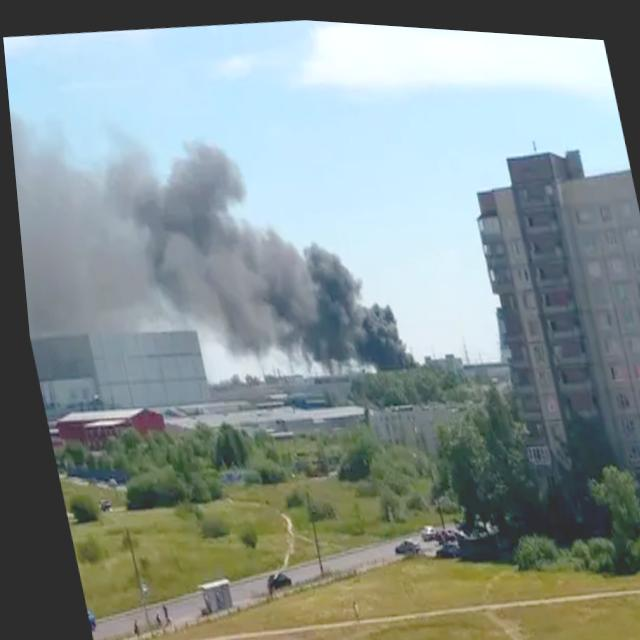Smoke: (4, 51, 425, 410)
